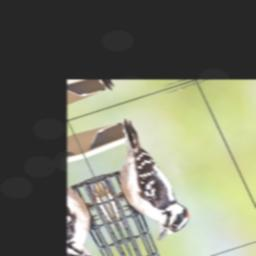Woodpecker: (85, 111, 198, 247)
